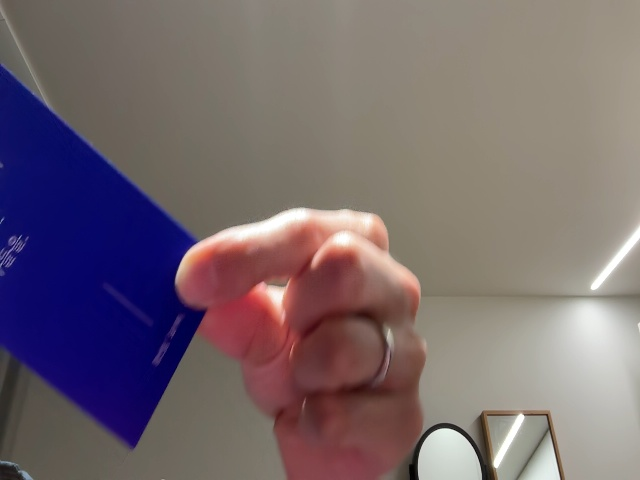card: (1, 69, 234, 450)
